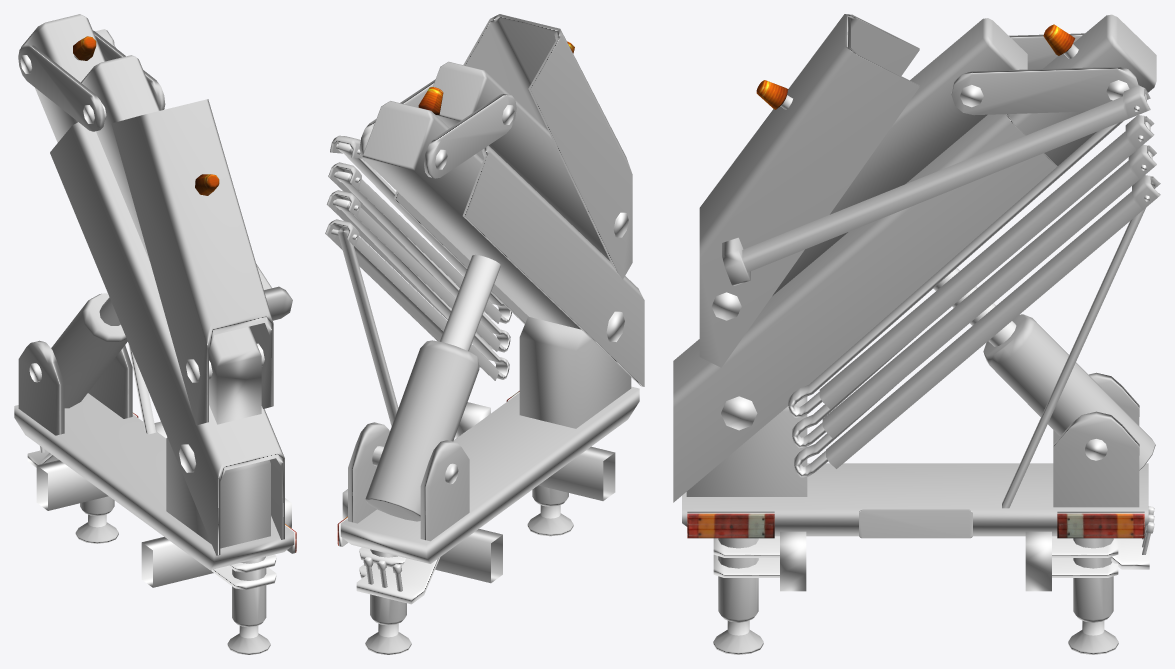
File: crane.fbx
3 renders of one model, left to right at view 1: azimuth 30°, elevation 25°; view 2: azimuth 150°, elevation 25°; view 3: azimuth 270°, elevation 25°, orthographic. The views are drawn at different scales.
Visible parts, largest first — view 1: Mesh; view 2: Mesh; view 3: Mesh.
Boxes of the visible parts, x1,y1,x2,y2 form: Mesh: [14, 14, 296, 654]; Mesh: [325, 14, 644, 654]; Mesh: [673, 14, 1160, 654].
Size of the model in its own units: 77.45 by 275 by 201.
